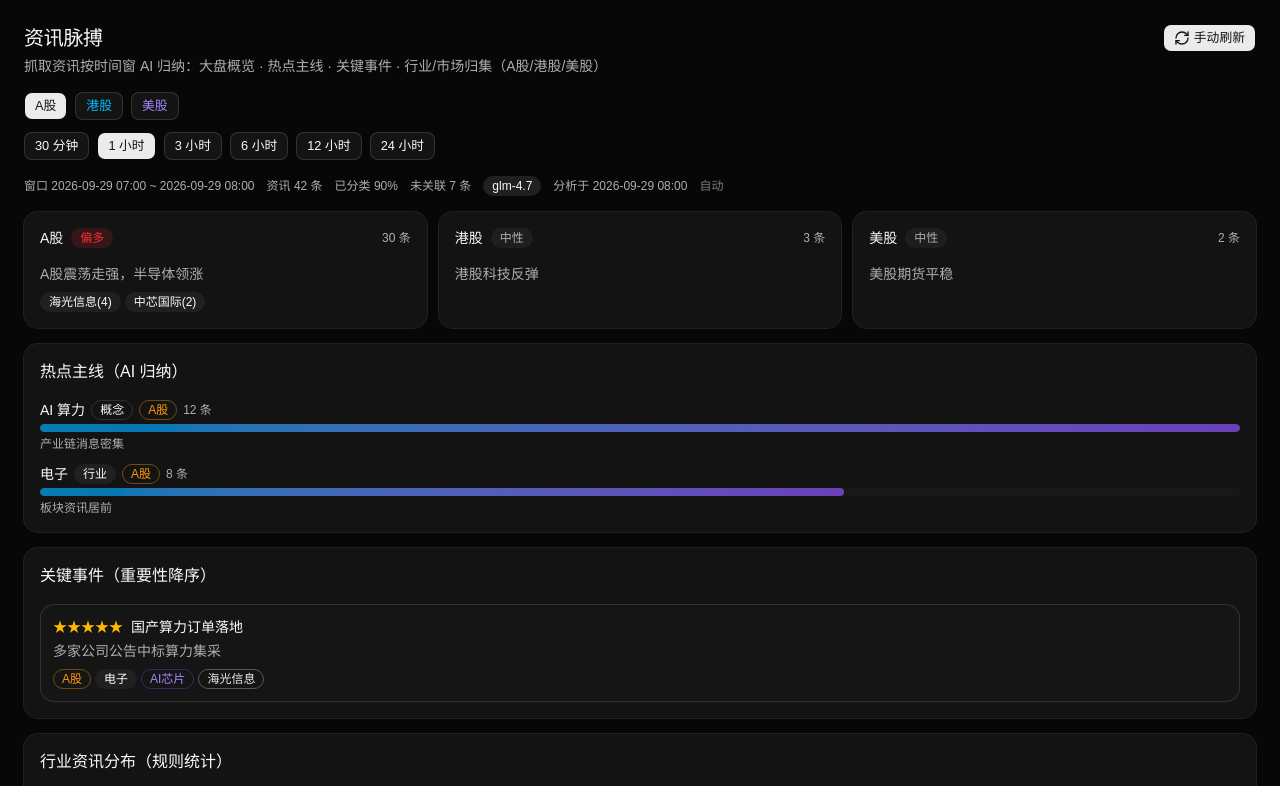
Test: 资讯脉搏页（V3.2 M28） › 手动刷新命中 5min 守卫：展示服务端错误文案不替换快照
Expected: the text "资讯 42 条" is shown, [266,178,322,194]
Click the button with test id "pulse-refresh" at (1209, 38), box [1163,24,1256,52]
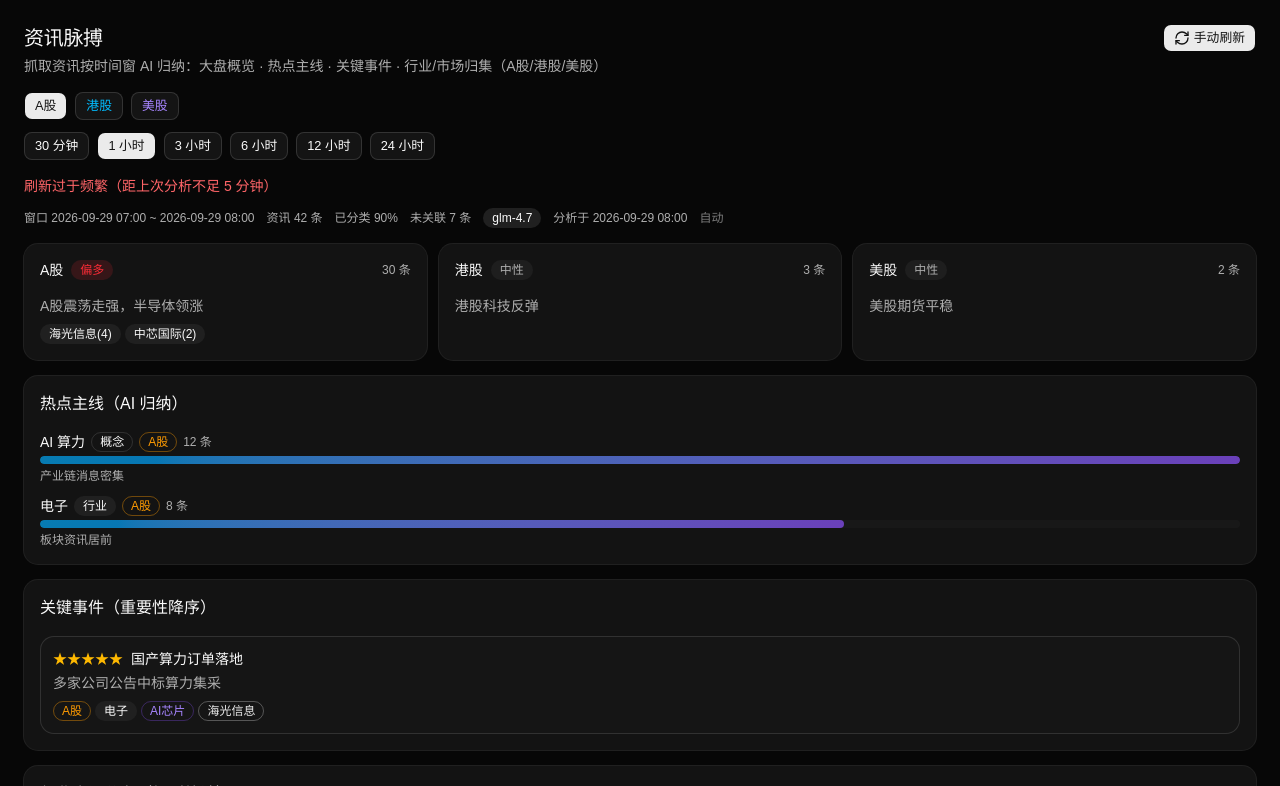
Expected: the text with test id "pulse-news-count" shows "42 条", [266,210,322,226]
Result: the message with test id "pulse-action-error" shows "刷新过于频繁" at [24,178,278,194]
